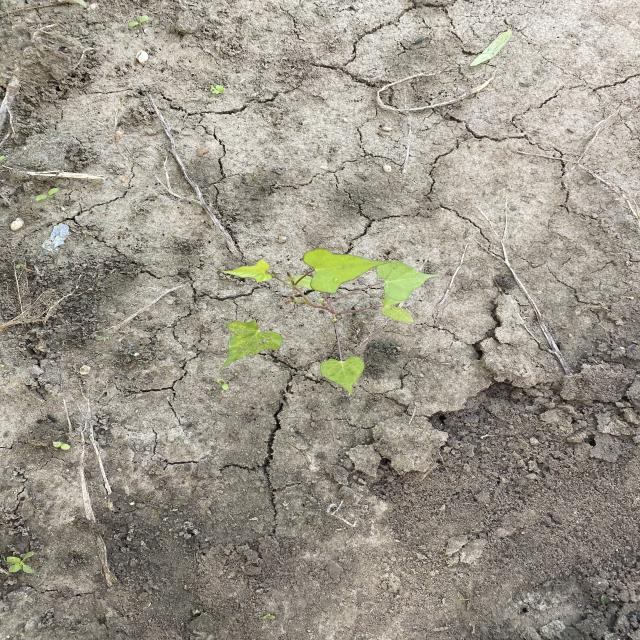MorningGlory: (218, 248, 442, 396)
